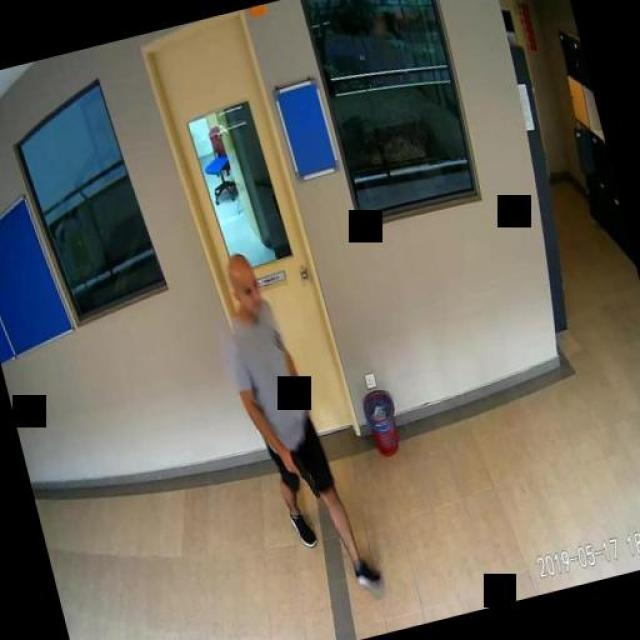gun: (280, 445, 318, 501)
